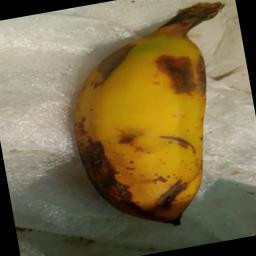Banana Overripe: (52, 0, 256, 245)
